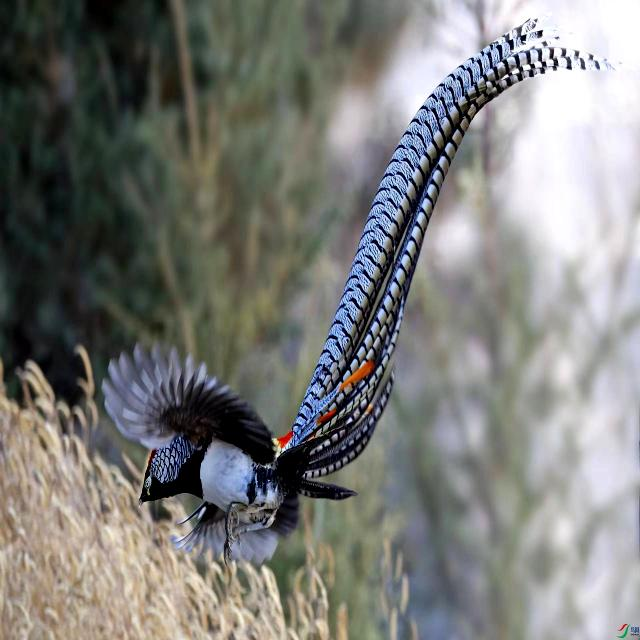Chrysolophus amherstiae: (281, 20, 610, 480)
